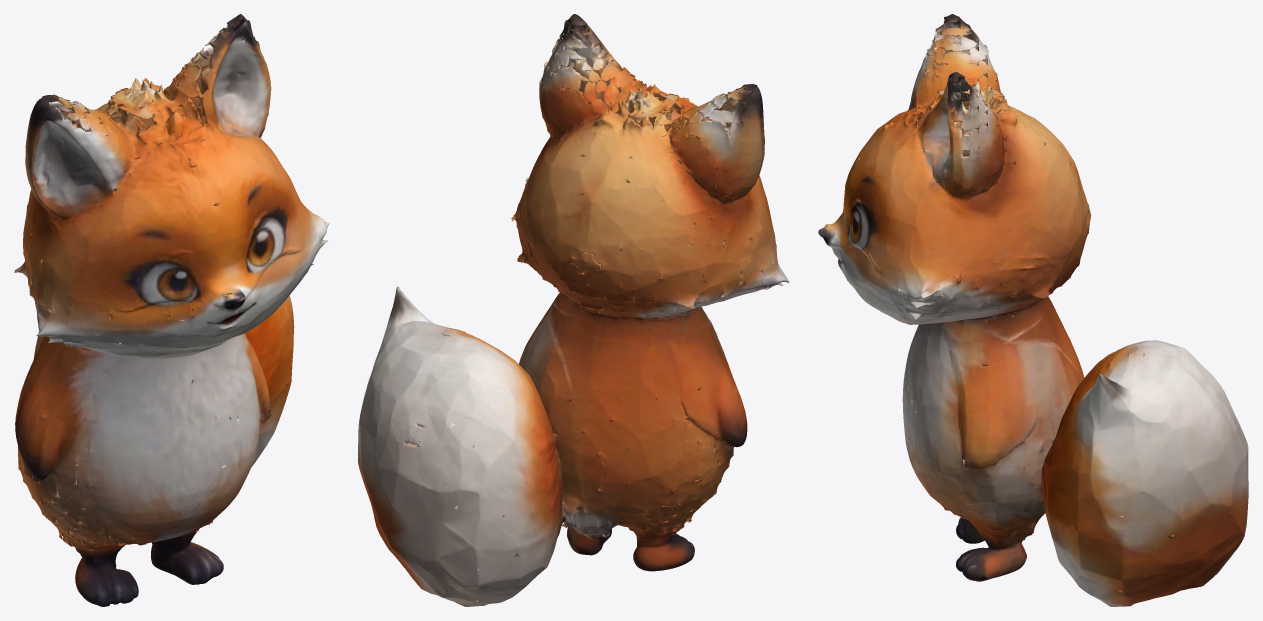
Rendered from can_you_create_a_cute_0322184457_texture (1) (1).glb.
3 renders of one model, left to right at view 1: azimuth 30°, elevation 25°; view 2: azimuth 150°, elevation 25°; view 3: azimuth 270°, elevation 25°, orthographic. The views are drawn at different scales.
Size of the model in its own units: 1.27 by 1.96 by 1.47.
1 material, 1 textured.
